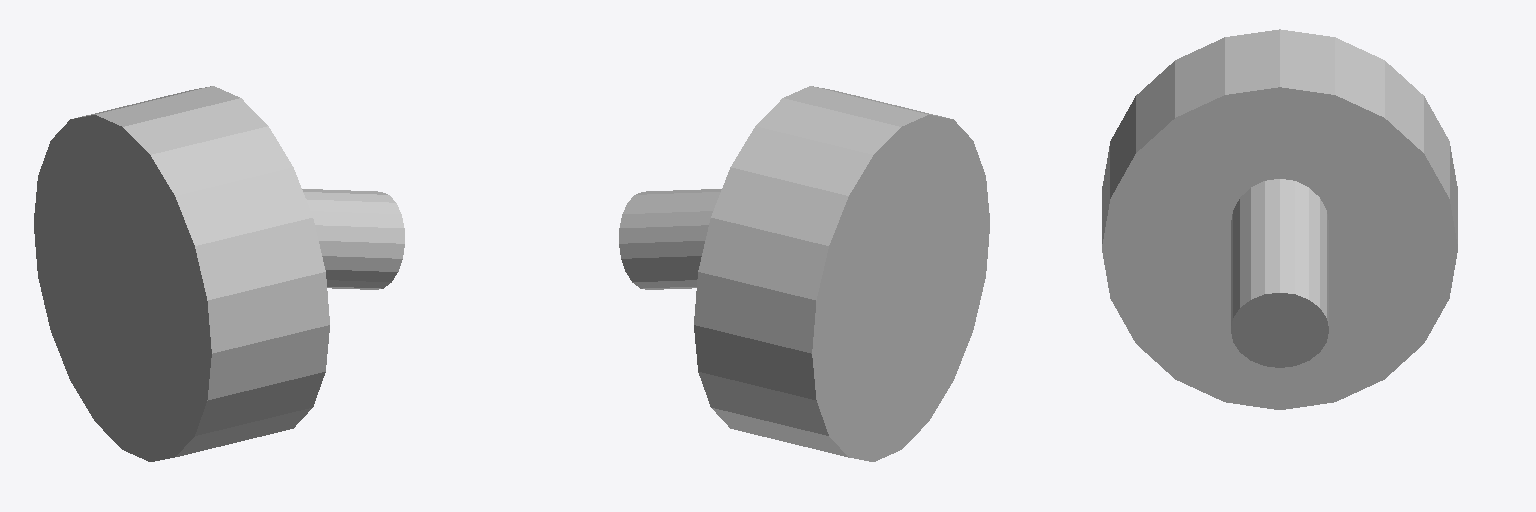
File: Drone_leftupperarm.obj
3 renders of one model, left to right at view 1: azimuth 30°, elevation 25°; view 2: azimuth 150°, elevation 25°; view 3: azimuth 270°, elevation 25°, orthographic.
Visible parts, largest first — view 1: Left_Arm, Left_Shoulder1; view 2: Left_Arm, Left_Shoulder1; view 3: Left_Arm, Left_Shoulder1.
Part boxes in pixels (x1,y1,x2,y2): Left_Arm: (34, 86, 329, 461); Left_Shoulder1: (302, 189, 404, 289); Left_Arm: (694, 86, 989, 461); Left_Shoulder1: (619, 189, 721, 289); Left_Arm: (1102, 29, 1457, 409); Left_Shoulder1: (1231, 179, 1328, 367).
Size of the model in its own units: 1.73 by 2 by 2.